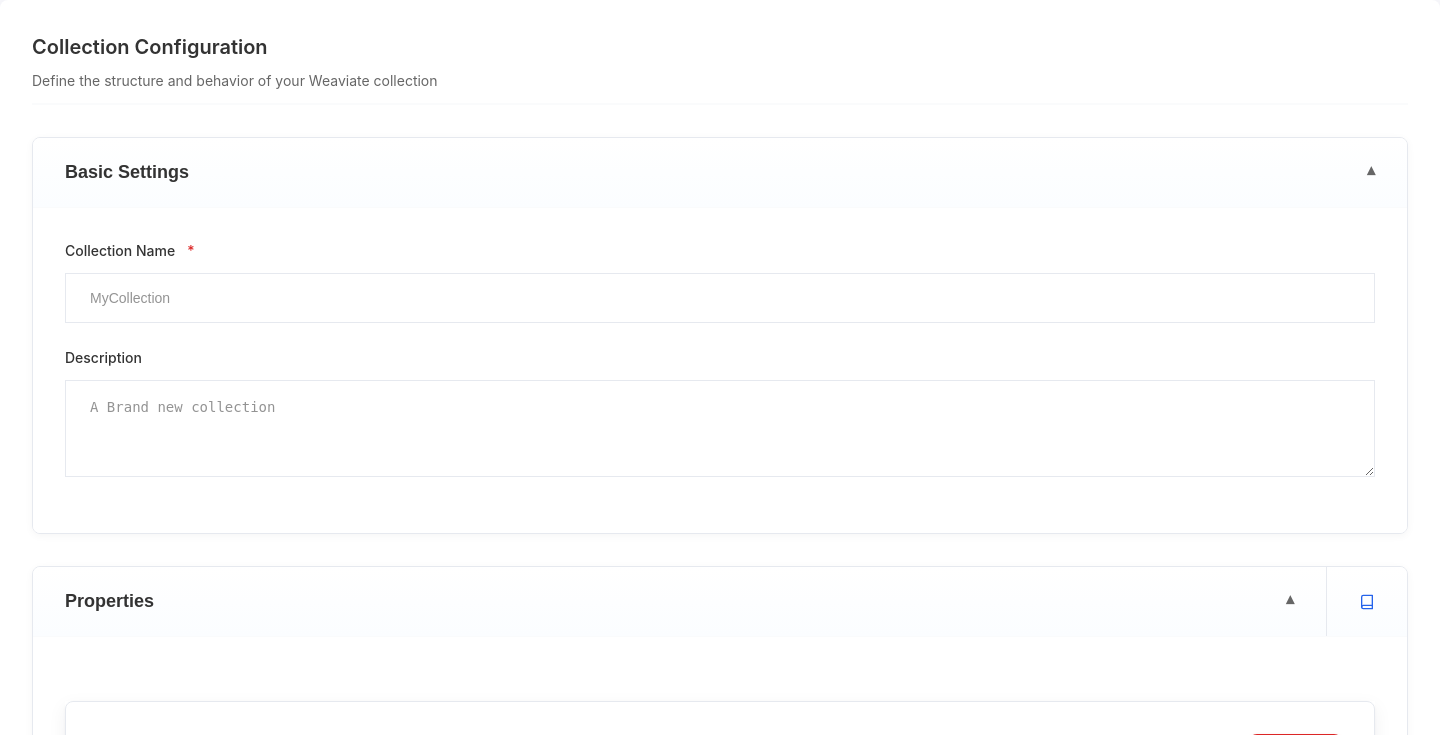
Collection Name Validation › should show error when collection name starts with lowercase
Type "myCollection" into the field labelled "Collection Name" at (720, 298), box left=65, top=273, right=1375, bottom=323
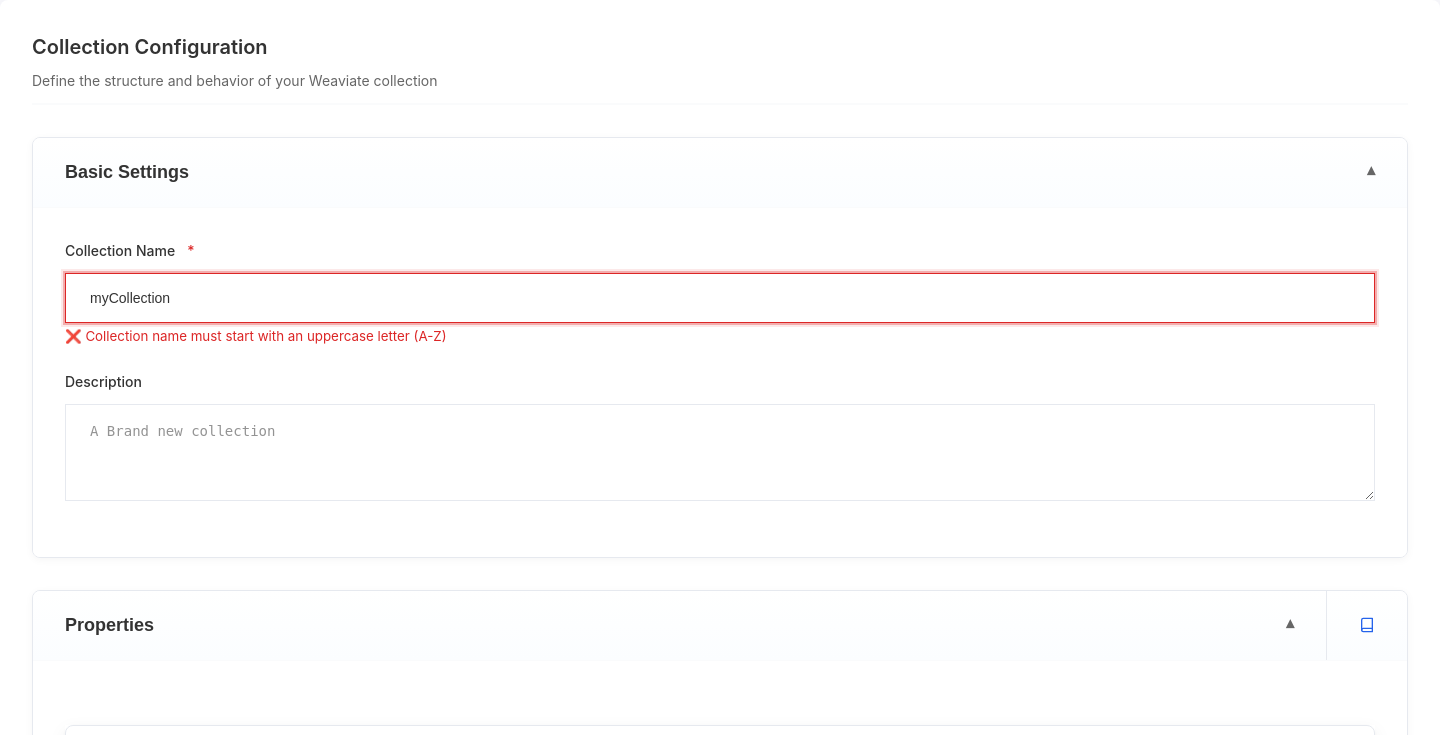
Expected: the text "❌ Collection name must start with an uppercase letter (A-Z)" is shown, left=65, top=328, right=447, bottom=344
